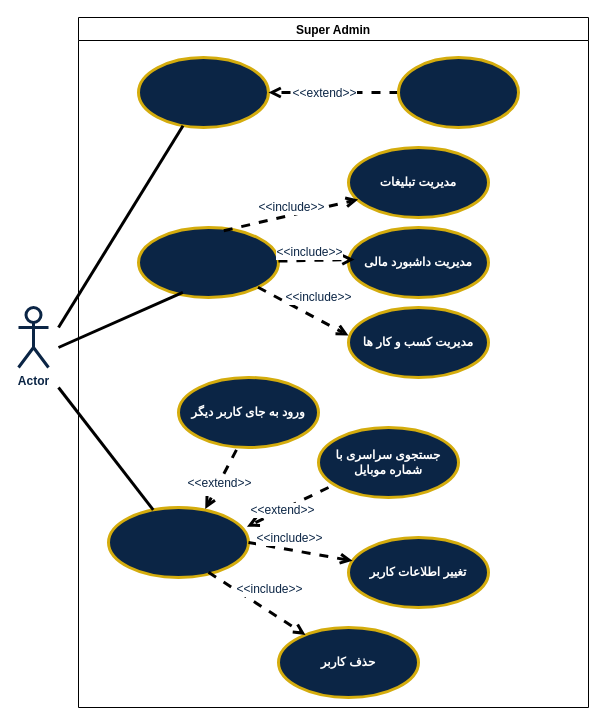
This 606x725 diagram has some shape labels left out. The shapes that lost their labels are listed below. From the top down, each one's centre as x and y in pixels, then its label:
At (x=203, y=92): "ورود".
At (x=458, y=92): "بازیابی رمز".
At (x=208, y=262): "عملیات مدیریتی ویژه".
At (x=178, y=542): "مدیریت کاربران".
